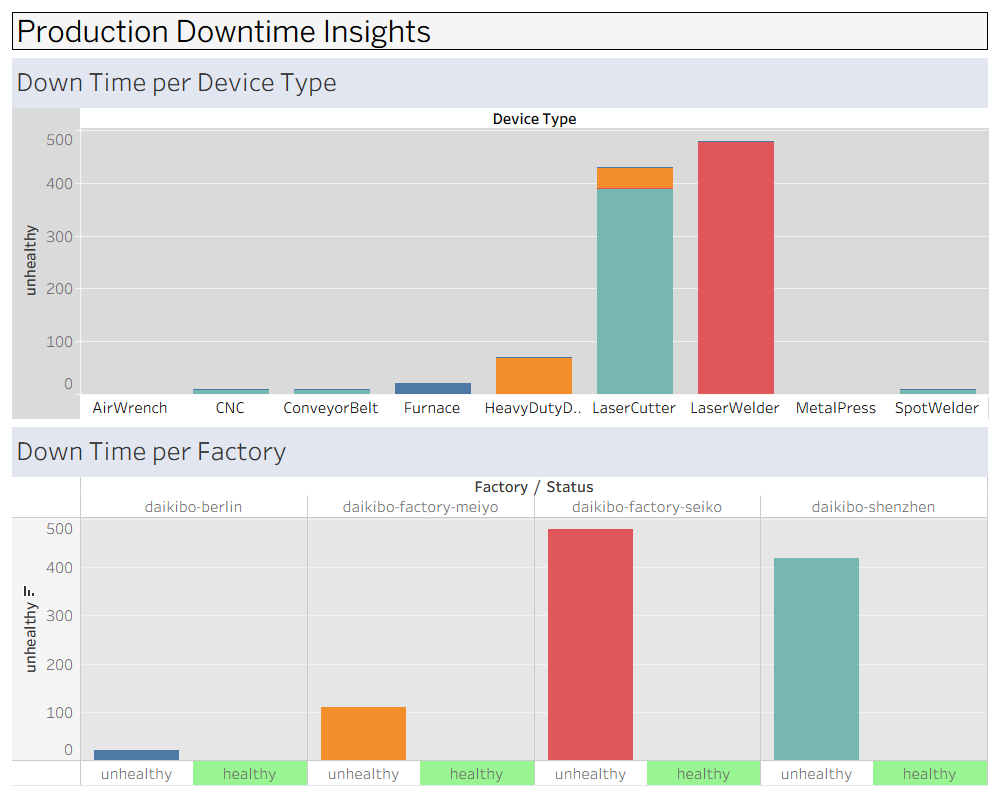

Layout of this report page (visuals, bound fields, positions):
{"tool":"tableau","page":{"name":"Dashboard 1","canvas":[1000,800],"ordinal":0},"visuals":[{"type":"title","box":[8,8,984,46]},{"type":"worksheet","title":"Down Time per Device Type","mark":"Automatic","rows":["Calculation_84723998703013890"],"cols":["deviceType"],"box":[8,54,984,369]},{"type":"worksheet","title":"Down Time per Factory","mark":"Automatic","rows":["Calculation_84723998703013890"],"cols":["factory","status"],"box":[8,423,984,369]}]}

Visuals, with their boxes in screenshot pixels (x1, y1, x2, y2), scaled from the page's 1000x800 canvas onto the 1000x800 screenshot:
title: box=[8, 8, 992, 54]
"Down Time per Device Type" worksheet: box=[8, 54, 992, 423]
"Down Time per Factory" worksheet: box=[8, 423, 992, 792]
